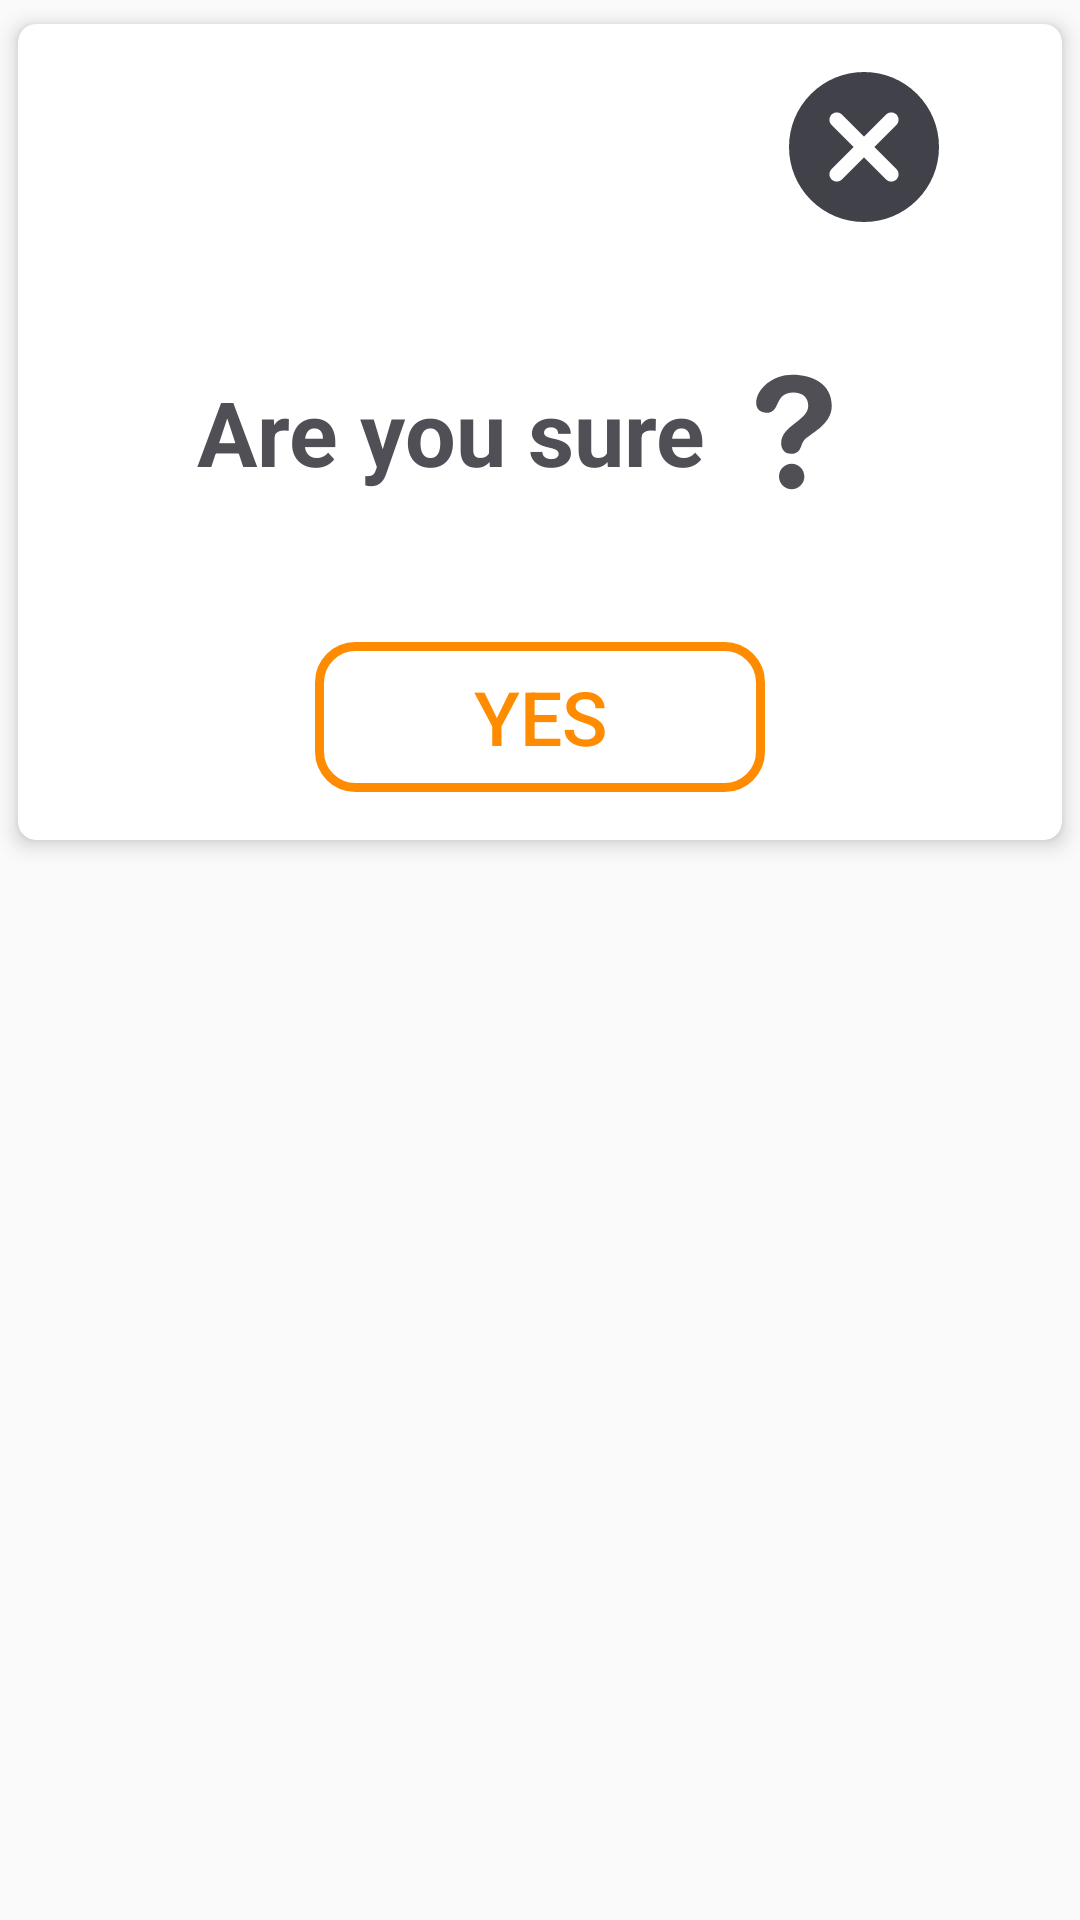

Where to tap for icons on this 1080px×1920px app screen, as (x=x, y=y):
cancel: (x=864, y=147)
